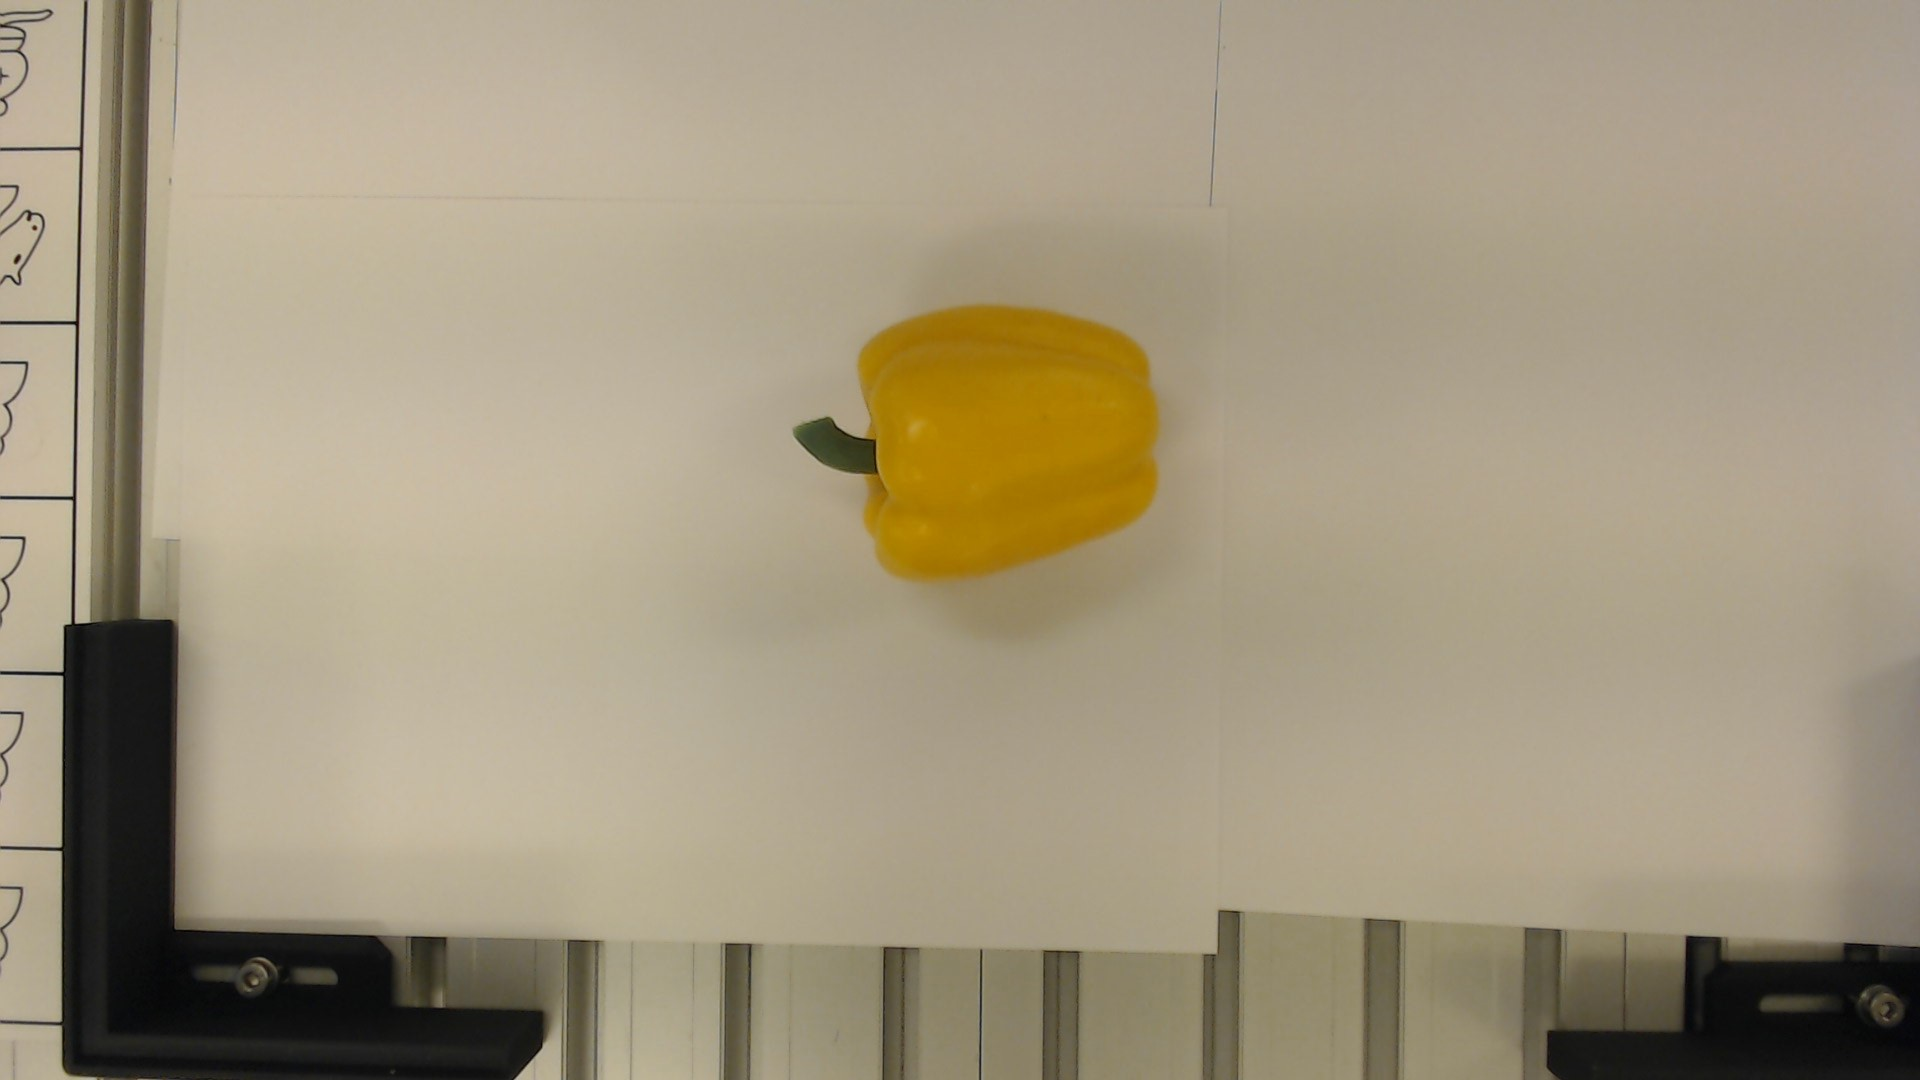Yellow Bell Pepper: (789, 302, 1164, 584)
